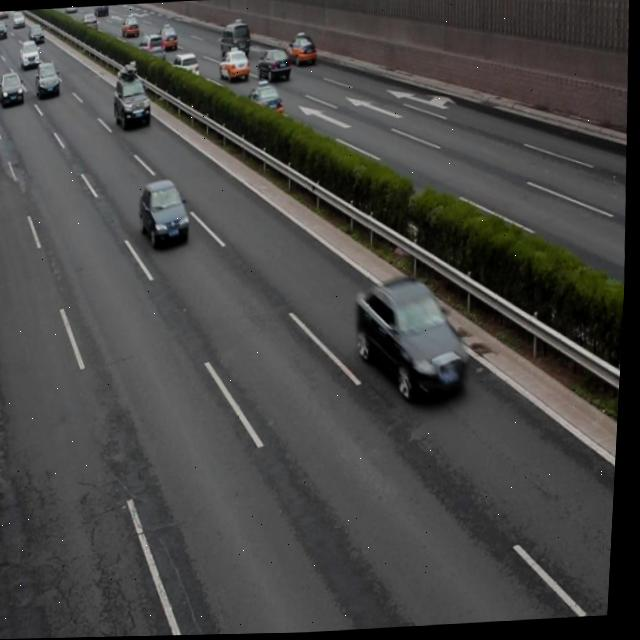car: (353, 273, 469, 401), (138, 176, 191, 250), (112, 66, 153, 131), (241, 83, 283, 123), (255, 46, 291, 84), (169, 52, 201, 89), (217, 49, 251, 83), (284, 34, 318, 68)
